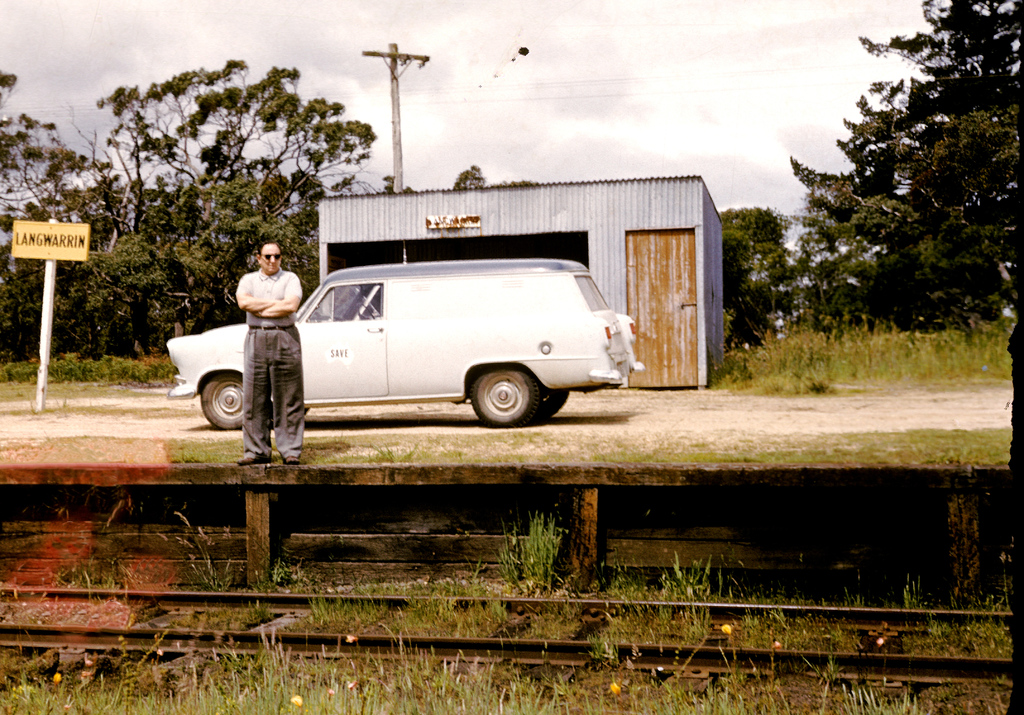mobil: (168, 252, 662, 439)
